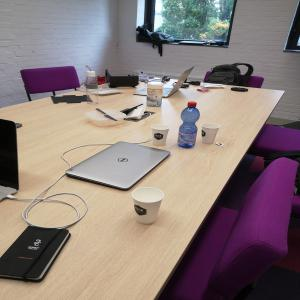Cup: (132, 188, 166, 226), (152, 125, 172, 147), (202, 124, 222, 145)
Plastic-bottle: (179, 102, 202, 150), (87, 72, 100, 106)
